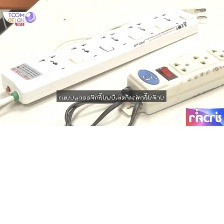three_eye_plug: (0, 5, 201, 107), (123, 39, 224, 118)
